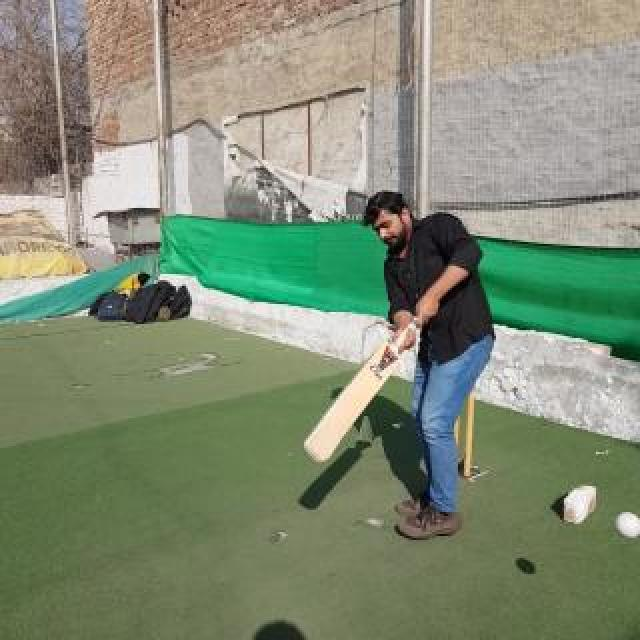ball: (614, 510, 640, 538)
bat: (302, 322, 418, 462)
